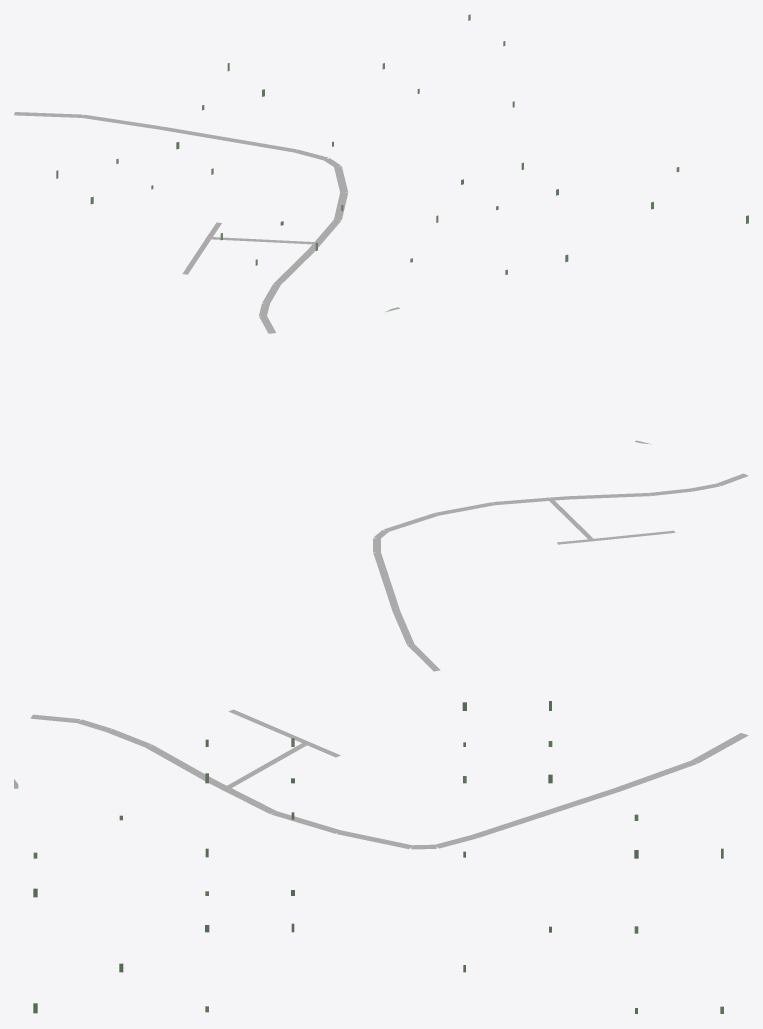
3 views of the same model, one above another, from view 1: azimuth 30°, elevation 25°; view 2: azimuth 150°, elevation 25°; view 3: azimuth 270°, elevation 25° (orthographic). The views are drawn at different scales.
Bounding box in the file's own units: 485 × 17.72 × 514.
